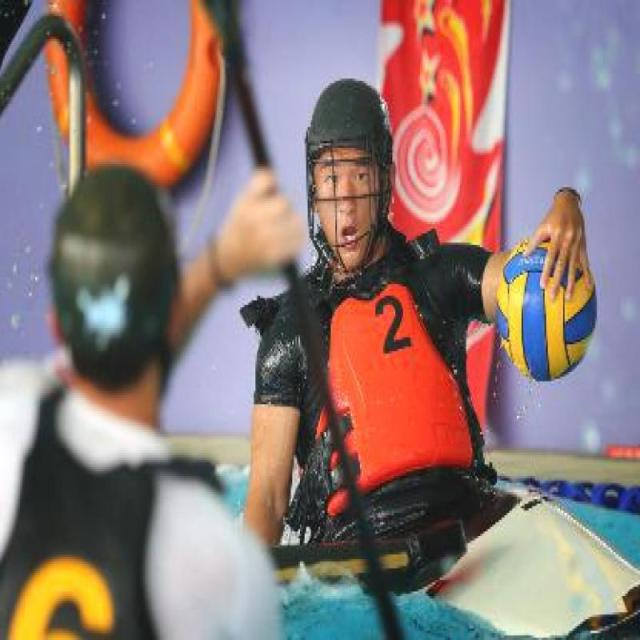volleyball: (497, 236, 597, 381)
